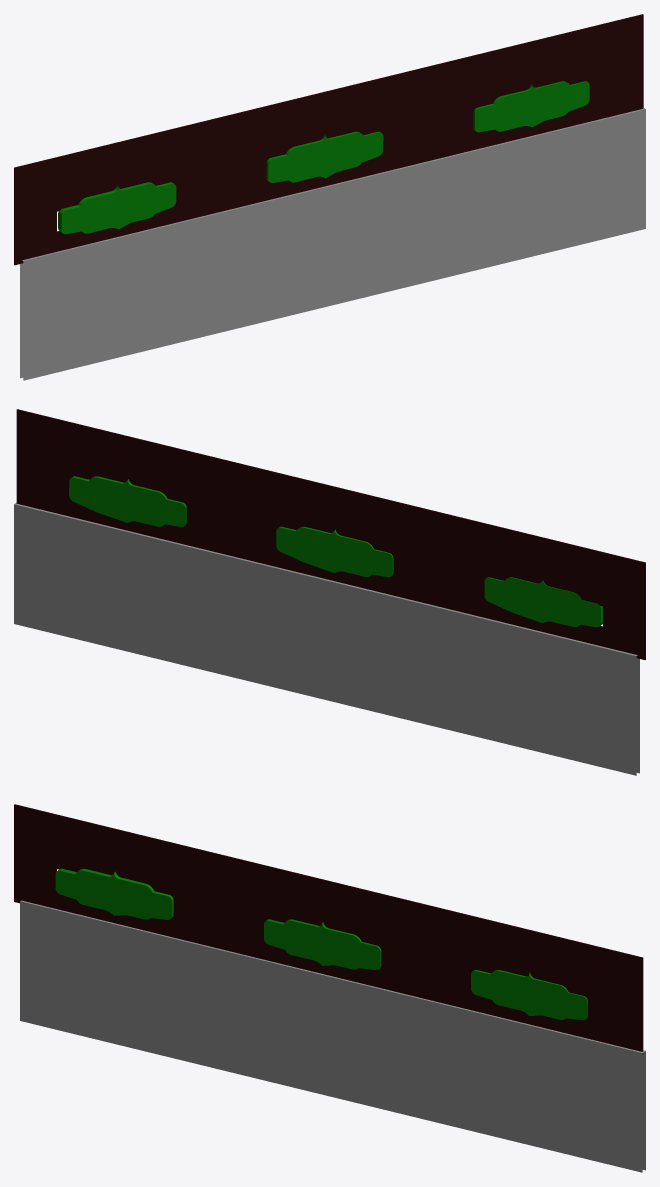
The model's file is Throne_Fence_Short.fbx.
The picture shows the model from 3 angles, top to bottom: view 1: azimuth 30°, elevation 25°; view 2: azimuth 150°, elevation 25°; view 3: azimuth 330°, elevation 25°; orthographic projection.
Visible parts, largest first — view 1: Throne_Fence_Short (×2), Throne_StairWall010; view 2: Throne_Fence_Short (×2), Throne_StairWall010; view 3: Throne_Fence_Short (×2), Throne_StairWall010.
Boxes of the visible parts, <box> form: Throne_Fence_Short (×2): <box>20,81,645,380</box>; Throne_StairWall010: <box>14,14,643,265</box>; Throne_Fence_Short (×2): <box>14,476,639,775</box>; Throne_StairWall010: <box>16,409,645,659</box>; Throne_Fence_Short (×2): <box>20,868,645,1172</box>; Throne_StairWall010: <box>14,804,643,1054</box>.
Bounding box in the file's own units: 104 × 33.82 × 1.56.
